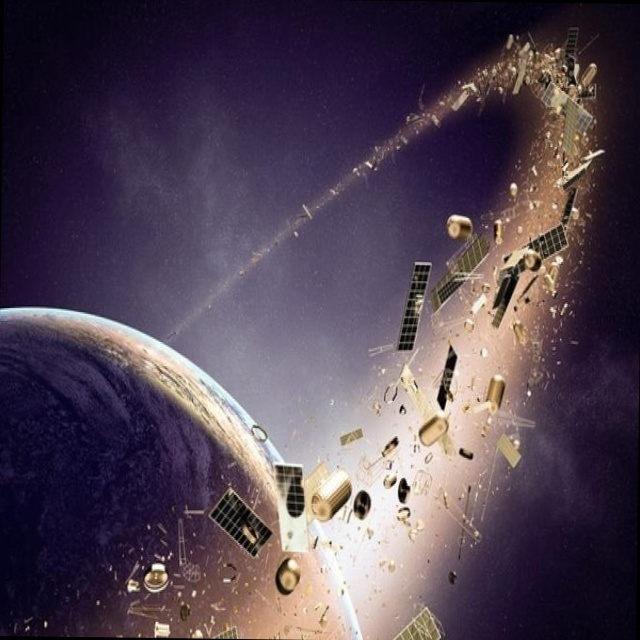large_debris: (489, 220, 570, 332), (388, 340, 461, 464), (429, 224, 492, 316), (432, 471, 488, 574), (469, 364, 541, 441), (537, 77, 599, 165), (207, 480, 275, 558), (270, 456, 311, 560), (396, 255, 434, 357), (311, 465, 355, 530), (389, 596, 447, 640), (436, 335, 459, 410), (271, 554, 305, 596), (143, 558, 172, 598), (444, 210, 475, 245), (337, 424, 366, 457), (351, 482, 373, 524), (150, 617, 182, 638), (396, 473, 413, 509)
